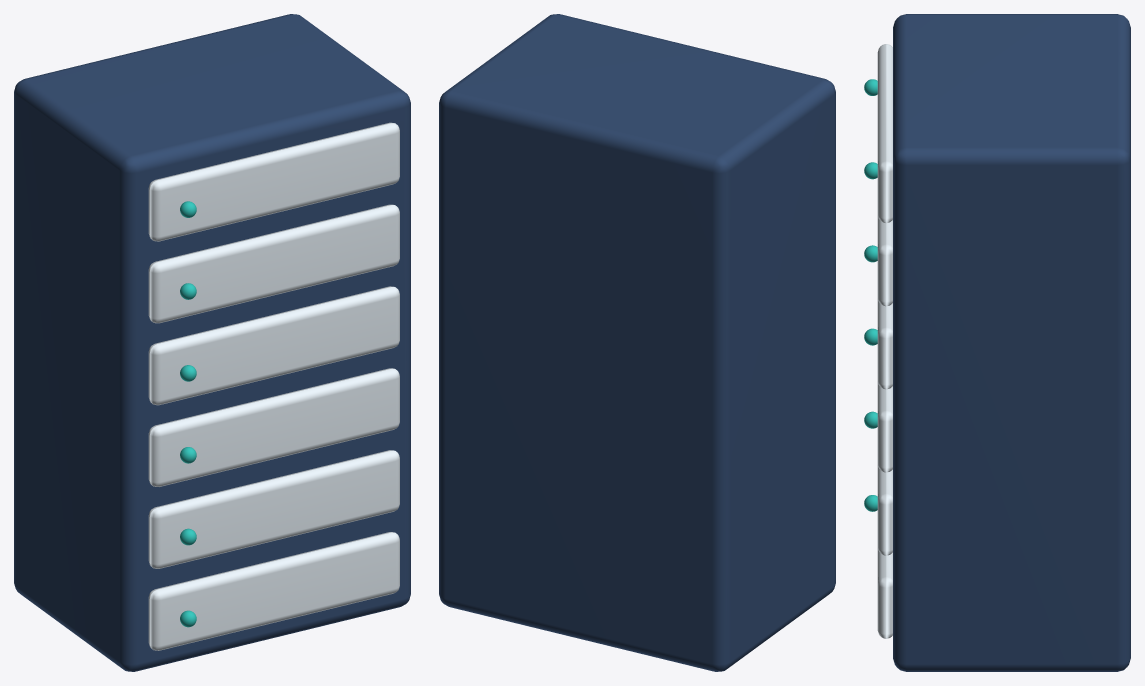
The model's file is server-rack-quality.glb.
The picture shows the model from 3 angles, left to right: view 1: azimuth 30°, elevation 25°; view 2: azimuth 150°, elevation 25°; view 3: azimuth 270°, elevation 25°; orthographic projection.
Parts seen in each view (by area): view 1: Rack cabinet; view 2: Rack cabinet; view 3: Rack cabinet.
Boxes of the visible parts, box(x1,y1,x2,y2) form: Rack cabinet: box(14, 14, 410, 671); Rack cabinet: box(439, 14, 835, 671); Rack cabinet: box(864, 14, 1130, 671).
Size of the model in its own units: 1 by 1.7 by 0.785.
